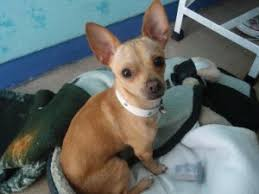chihuahua: (64, 1, 178, 193)
